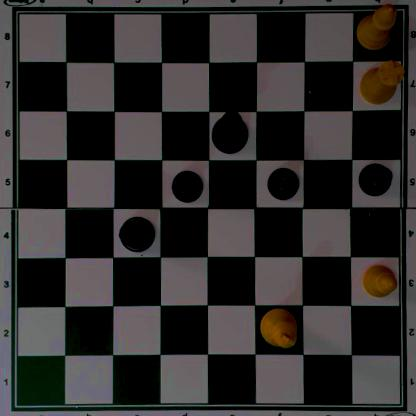black-king: (209, 110, 250, 153)
black-pawn: (357, 160, 392, 196), (170, 169, 204, 203), (267, 165, 299, 200)
black-rook: (118, 216, 156, 253)
white-bishop: (354, 1, 398, 49)
white-king: (258, 307, 298, 349)
white-pawn: (360, 262, 397, 298)
white-rook: (360, 59, 403, 104)
